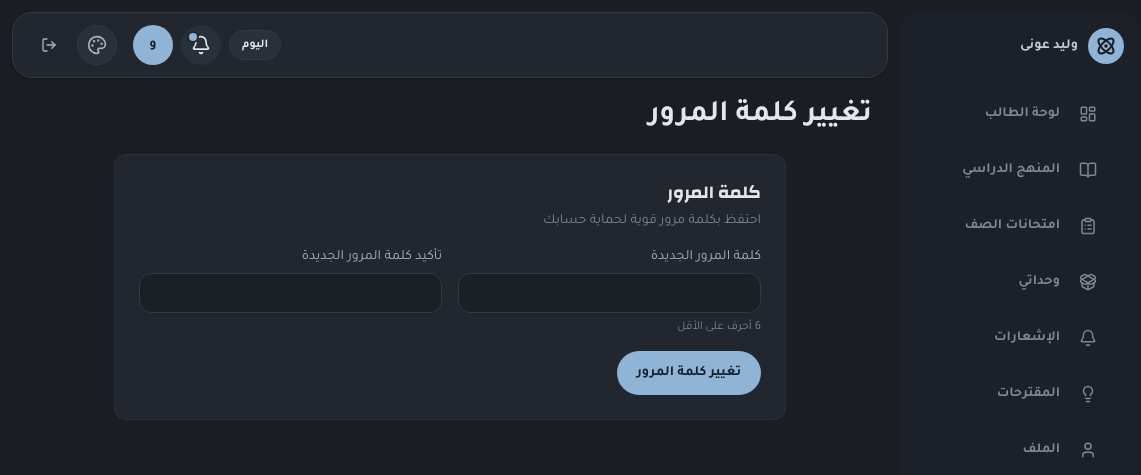
it: StudentChangePasswordPage › validates the new password length and the confirmation match
This screenshot has width=1141, height=475.
In the password field labelled "كلمة المرور الجديدة": point(610, 293) [458, 273, 761, 313], type "123"
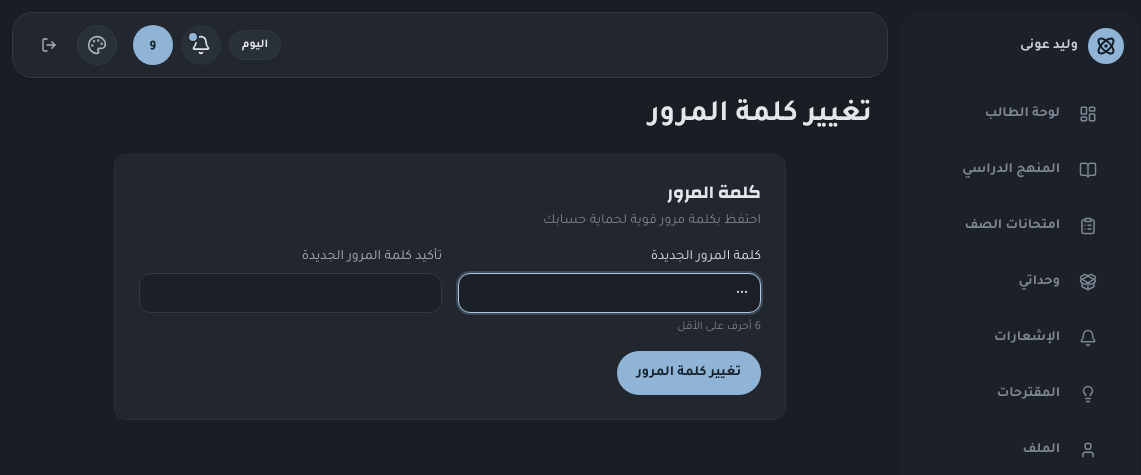
In the password field labelled "تأكيد كلمة المرور الجديدة": point(290, 293) [139, 273, 442, 313], type "456"
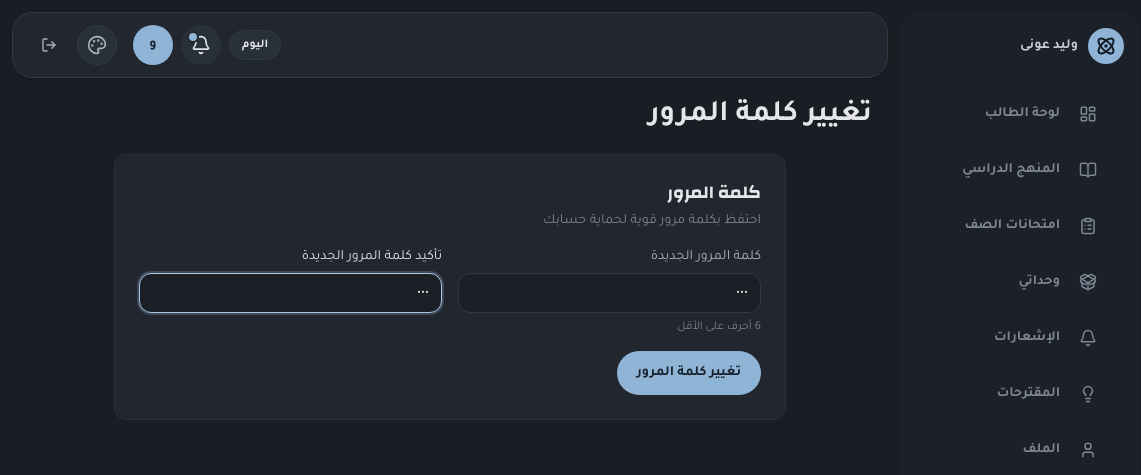
Click the button "تغيير كلمة المرور": point(689, 373) [617, 351, 761, 395]
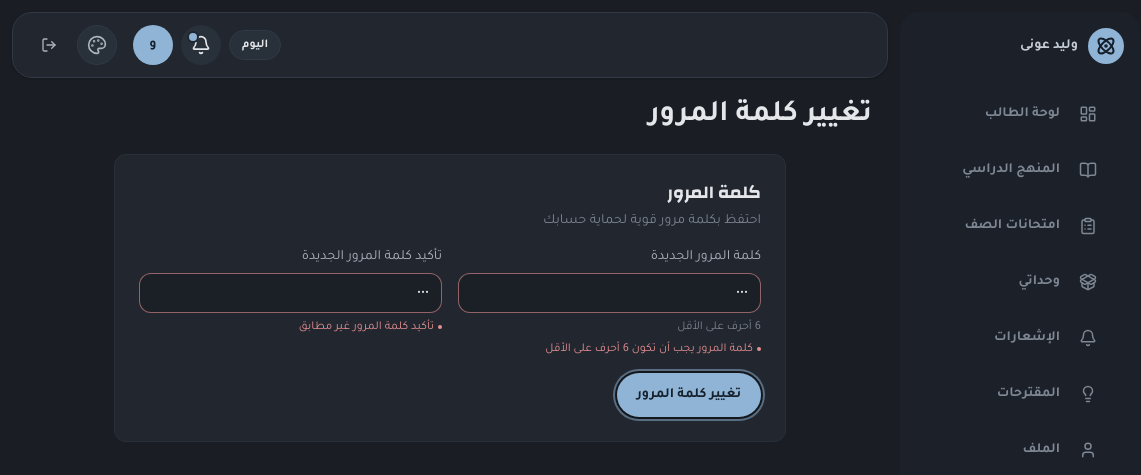
Now the text "كلمة المرور يجب أن تكون 6 أحرف على الأقل" is shown, box [545, 343, 761, 355]
Now the text "تأكيد كلمة المرور غير مطابق" is shown, box [299, 321, 442, 333]
